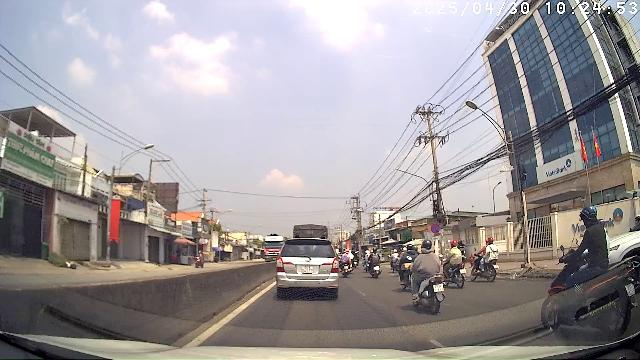130-cam-dung-va-do-xe: (432, 223, 441, 233)
